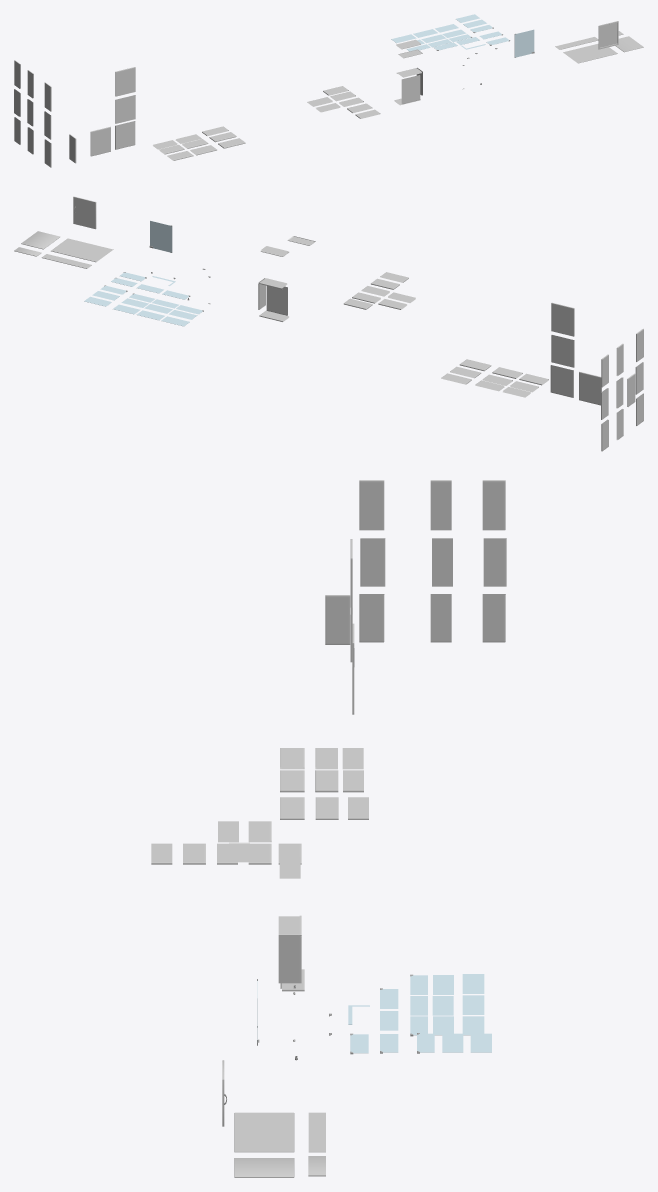
Rendered from med_lockers_model.fbx.
3 views of the same model, one above another, from view 1: azimuth 30°, elevation 25°; view 2: azimuth 150°, elevation 25°; view 3: azimuth 270°, elevation 25° (orthographic). The views are drawn at different scales.
Visible parts, largest first — view 1: metal_door, glass_door_right, back_wall, back_wall.004, back_wall.002, back_wall.003, back_wall.005; view 2: metal_door, glass_door_right, back_wall.002, back_wall.005, back_wall.004, back_wall.003, back_wall; view 3: side_wall.004, side_wall.007, side_wall.001, side_wall.002, side_wall.005, side_wall.008, side_wall, side_wall.003, side_wall.006, side_wall.009, side_wall.010.
Boxes of the visible parts, x1,y1,x2,y2 form: metal_door: (598,21,618,49); glass_door_right: (514,29,534,57); back_wall: (401,76,420,103); back_wall.004: (116,95,134,122); back_wall.002: (116,121,134,148); back_wall.003: (116,68,134,95); back_wall.005: (92,128,109,155); metal_door: (73,196,96,229); glass_door_right: (150,220,172,252); back_wall.002: (551,365,572,396); back_wall.005: (579,373,600,404); back_wall.004: (552,335,573,366); back_wall.003: (552,304,572,335); back_wall: (266,286,287,314); side_wall.004: (362,538,383,584); side_wall.007: (483,538,504,584); side_wall.001: (327,597,348,643); side_wall.002: (361,594,382,640); side_wall.005: (482,594,503,640); side_wall.008: (430,594,451,640); side_wall: (278,937,299,983); side_wall.003: (361,482,382,528); side_wall.006: (482,482,503,528); side_wall.009: (430,482,451,528); side_wall.010: (432,538,452,584).
Size of the model in its own units: 1977 by 298 by 541.
